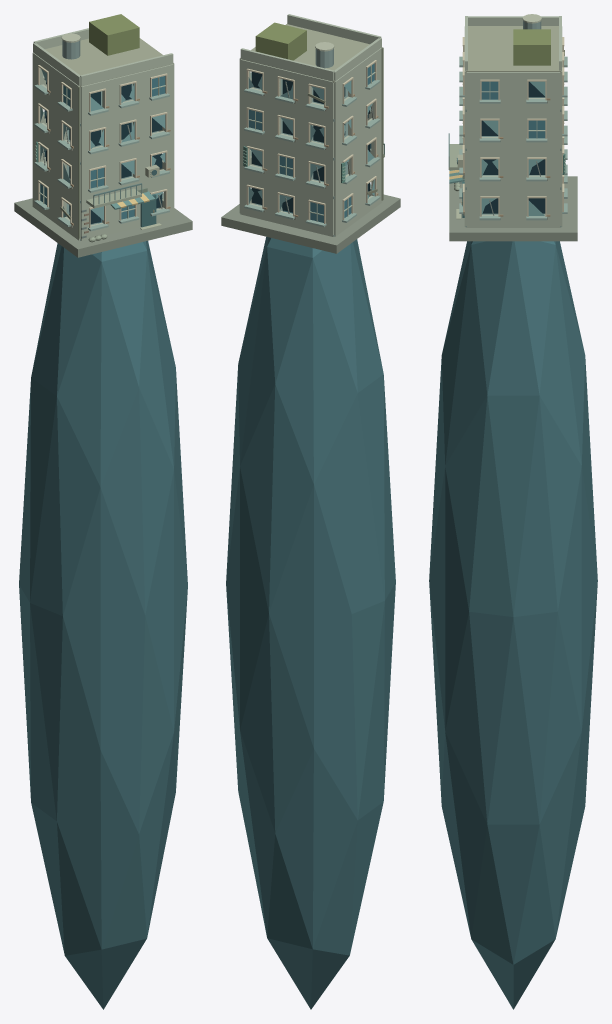
Rendered from house_01.glb.
The picture shows the model from 3 angles, left to right: view 1: azimuth 30°, elevation 25°; view 2: azimuth 150°, elevation 25°; view 3: azimuth 270°, elevation 25°; orthographic projection.
Parts seen in each view (by area): view 1: house_01; view 2: house_01; view 3: house_01.
Boxes of the visible parts, box(x1,y1,x2,y2) form: house_01: box(14, 14, 192, 1009); house_01: box(221, 14, 400, 1009); house_01: box(429, 14, 597, 1009).
Bounding box in the file's own units: 12.8 × 80.94 × 12.6.
